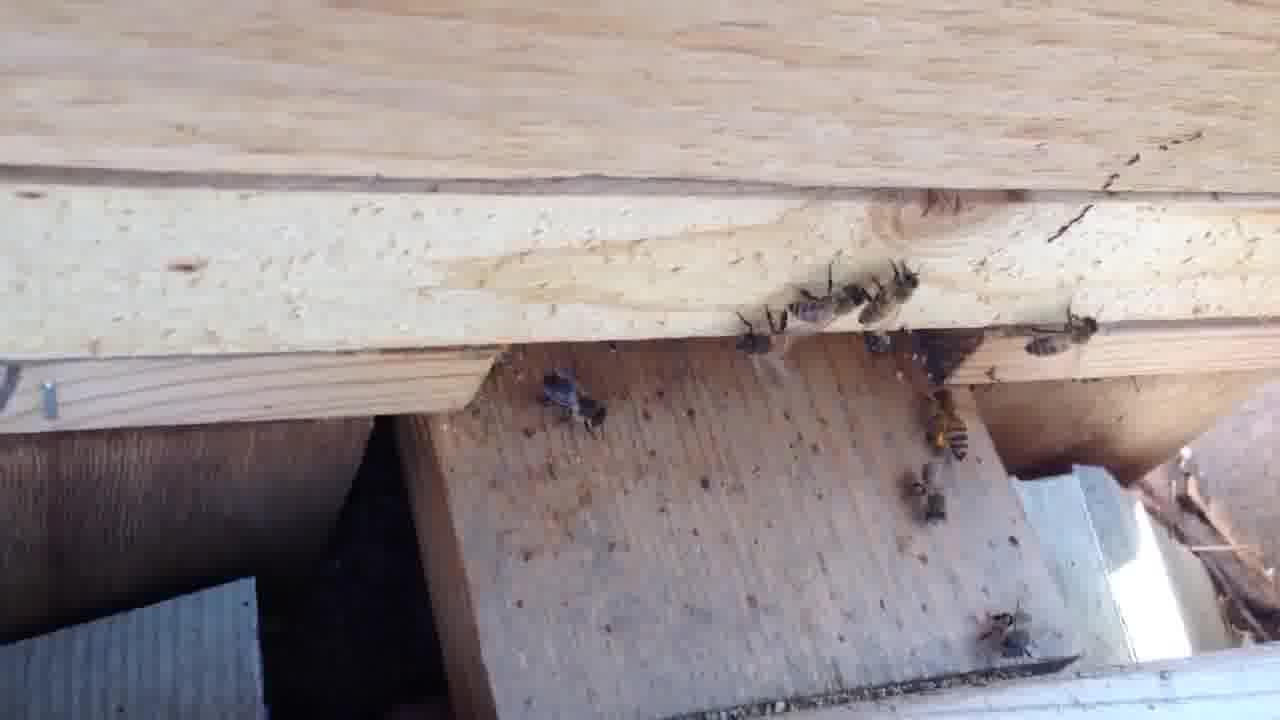pollen: (918, 389, 975, 462)
